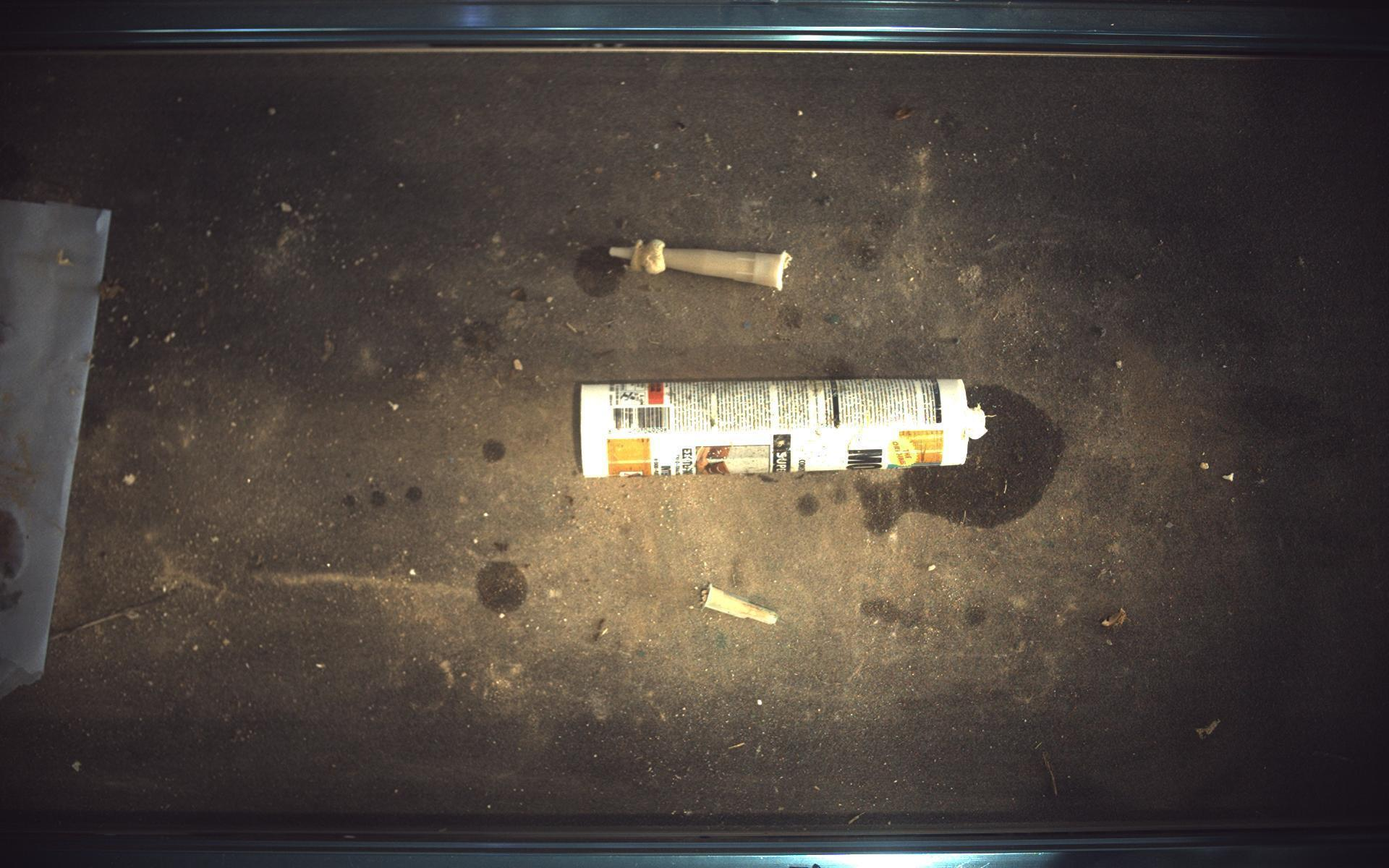plastic: (580, 378, 987, 478), (610, 239, 794, 290), (703, 584, 778, 626)
